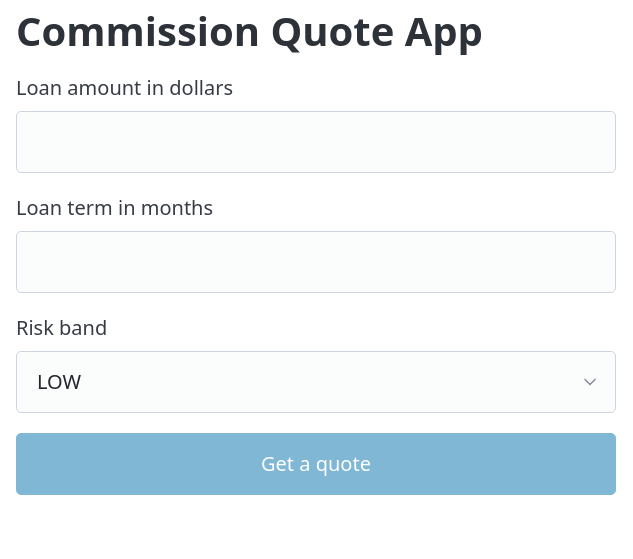
Scenario: the page while a quote request is in flight › disables the submit control and shows a loading indicator
Type "5000" into the number field labelled "Loan amount in dollars" at [316, 142], box [16,110,616,173]
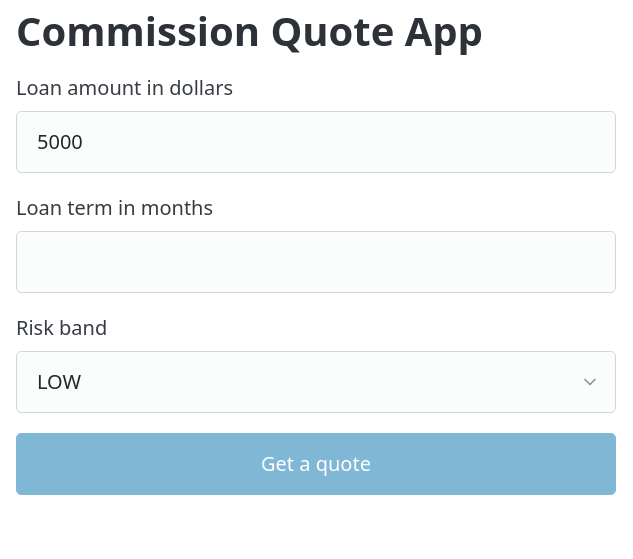
Type "24" into the number field labelled "Loan term in months" at [316, 262], box [16,230,616,293]
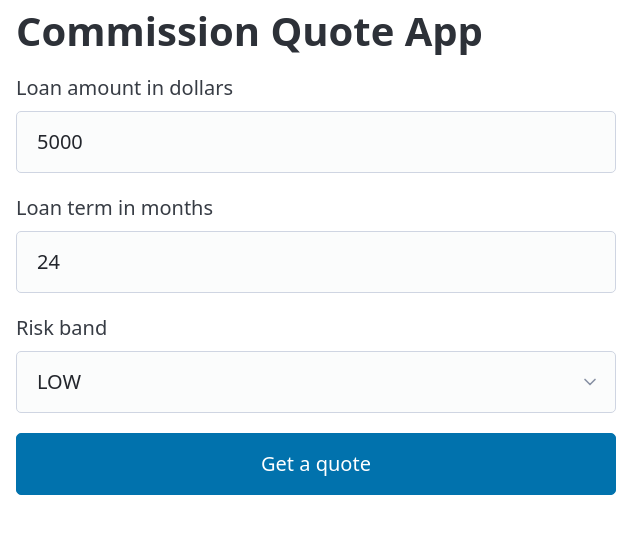
Select "MEDIUM" in the dropdown labelled "Risk band" at [316, 382], box [16,350,616,412]
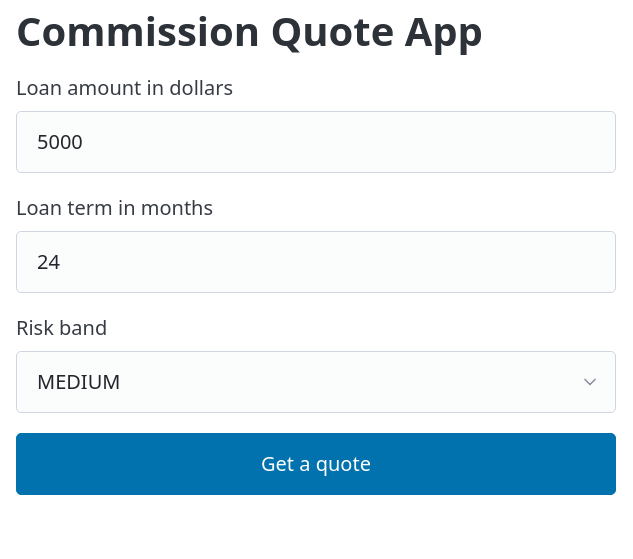
Click the button "Get a quote" at [316, 464], box [16,432,616,494]
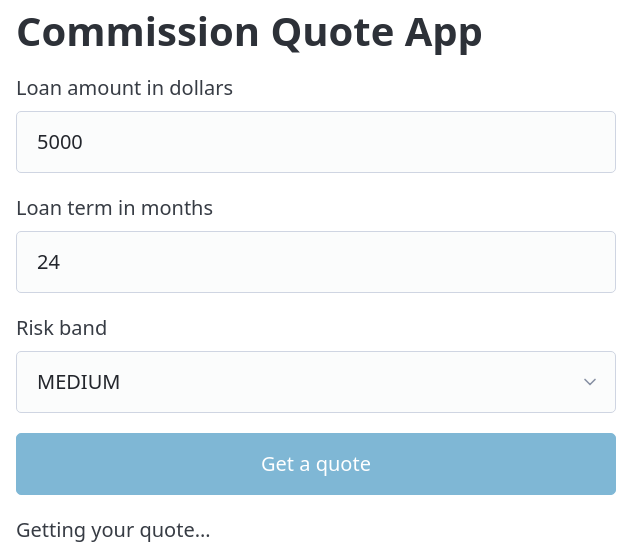
Check: the button "Get a quote" is disabled, box [16,432,616,494]
Check: the message "Getting your quote…" is shown, box [16,516,210,542]
